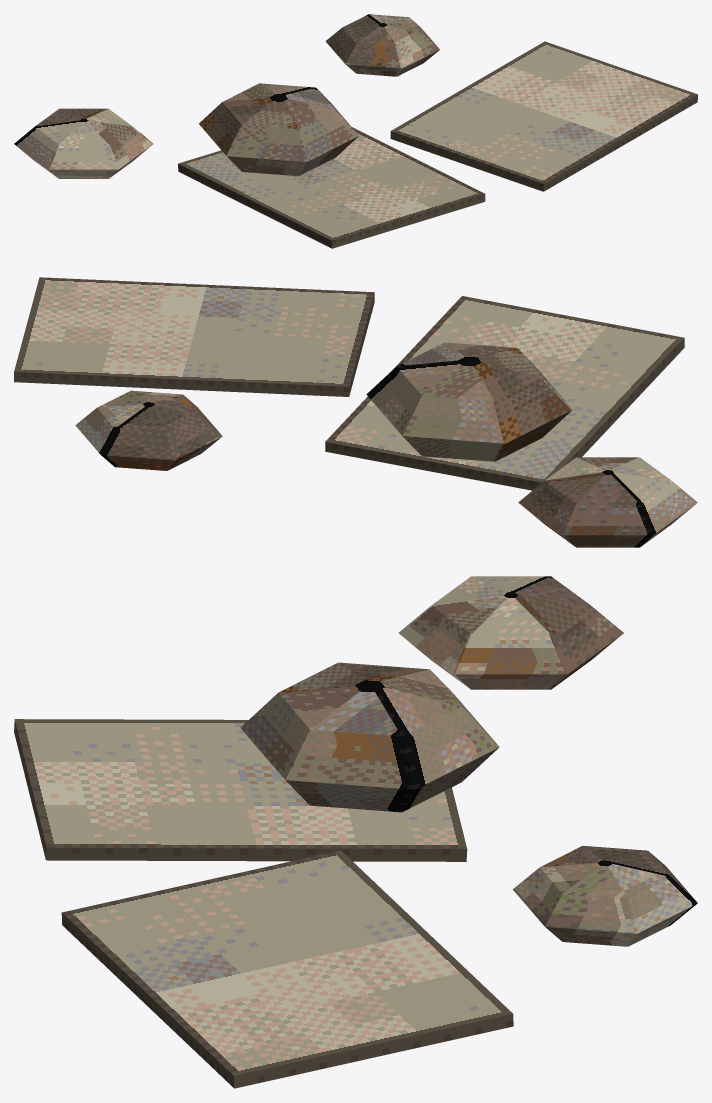
Rendered from SM_Debris_01.glb.
The picture shows the model from 3 angles, top to bottom: view 1: azimuth 30°, elevation 25°; view 2: azimuth 150°, elevation 25°; view 3: azimuth 270°, elevation 25°; orthographic projection. The views are drawn at different scales.
Visible parts, largest first — view 1: SM_Debris_01; view 2: SM_Debris_01; view 3: SM_Debris_01.
Boxes of the visible parts, x1,y1,x2,y2 form: SM_Debris_01: [14, 14, 697, 248]; SM_Debris_01: [14, 277, 697, 547]; SM_Debris_01: [14, 576, 697, 1088].
Size of the model in its own units: 0.2301 by 0.0266 by 0.1454.
1 material, 1 textured.
